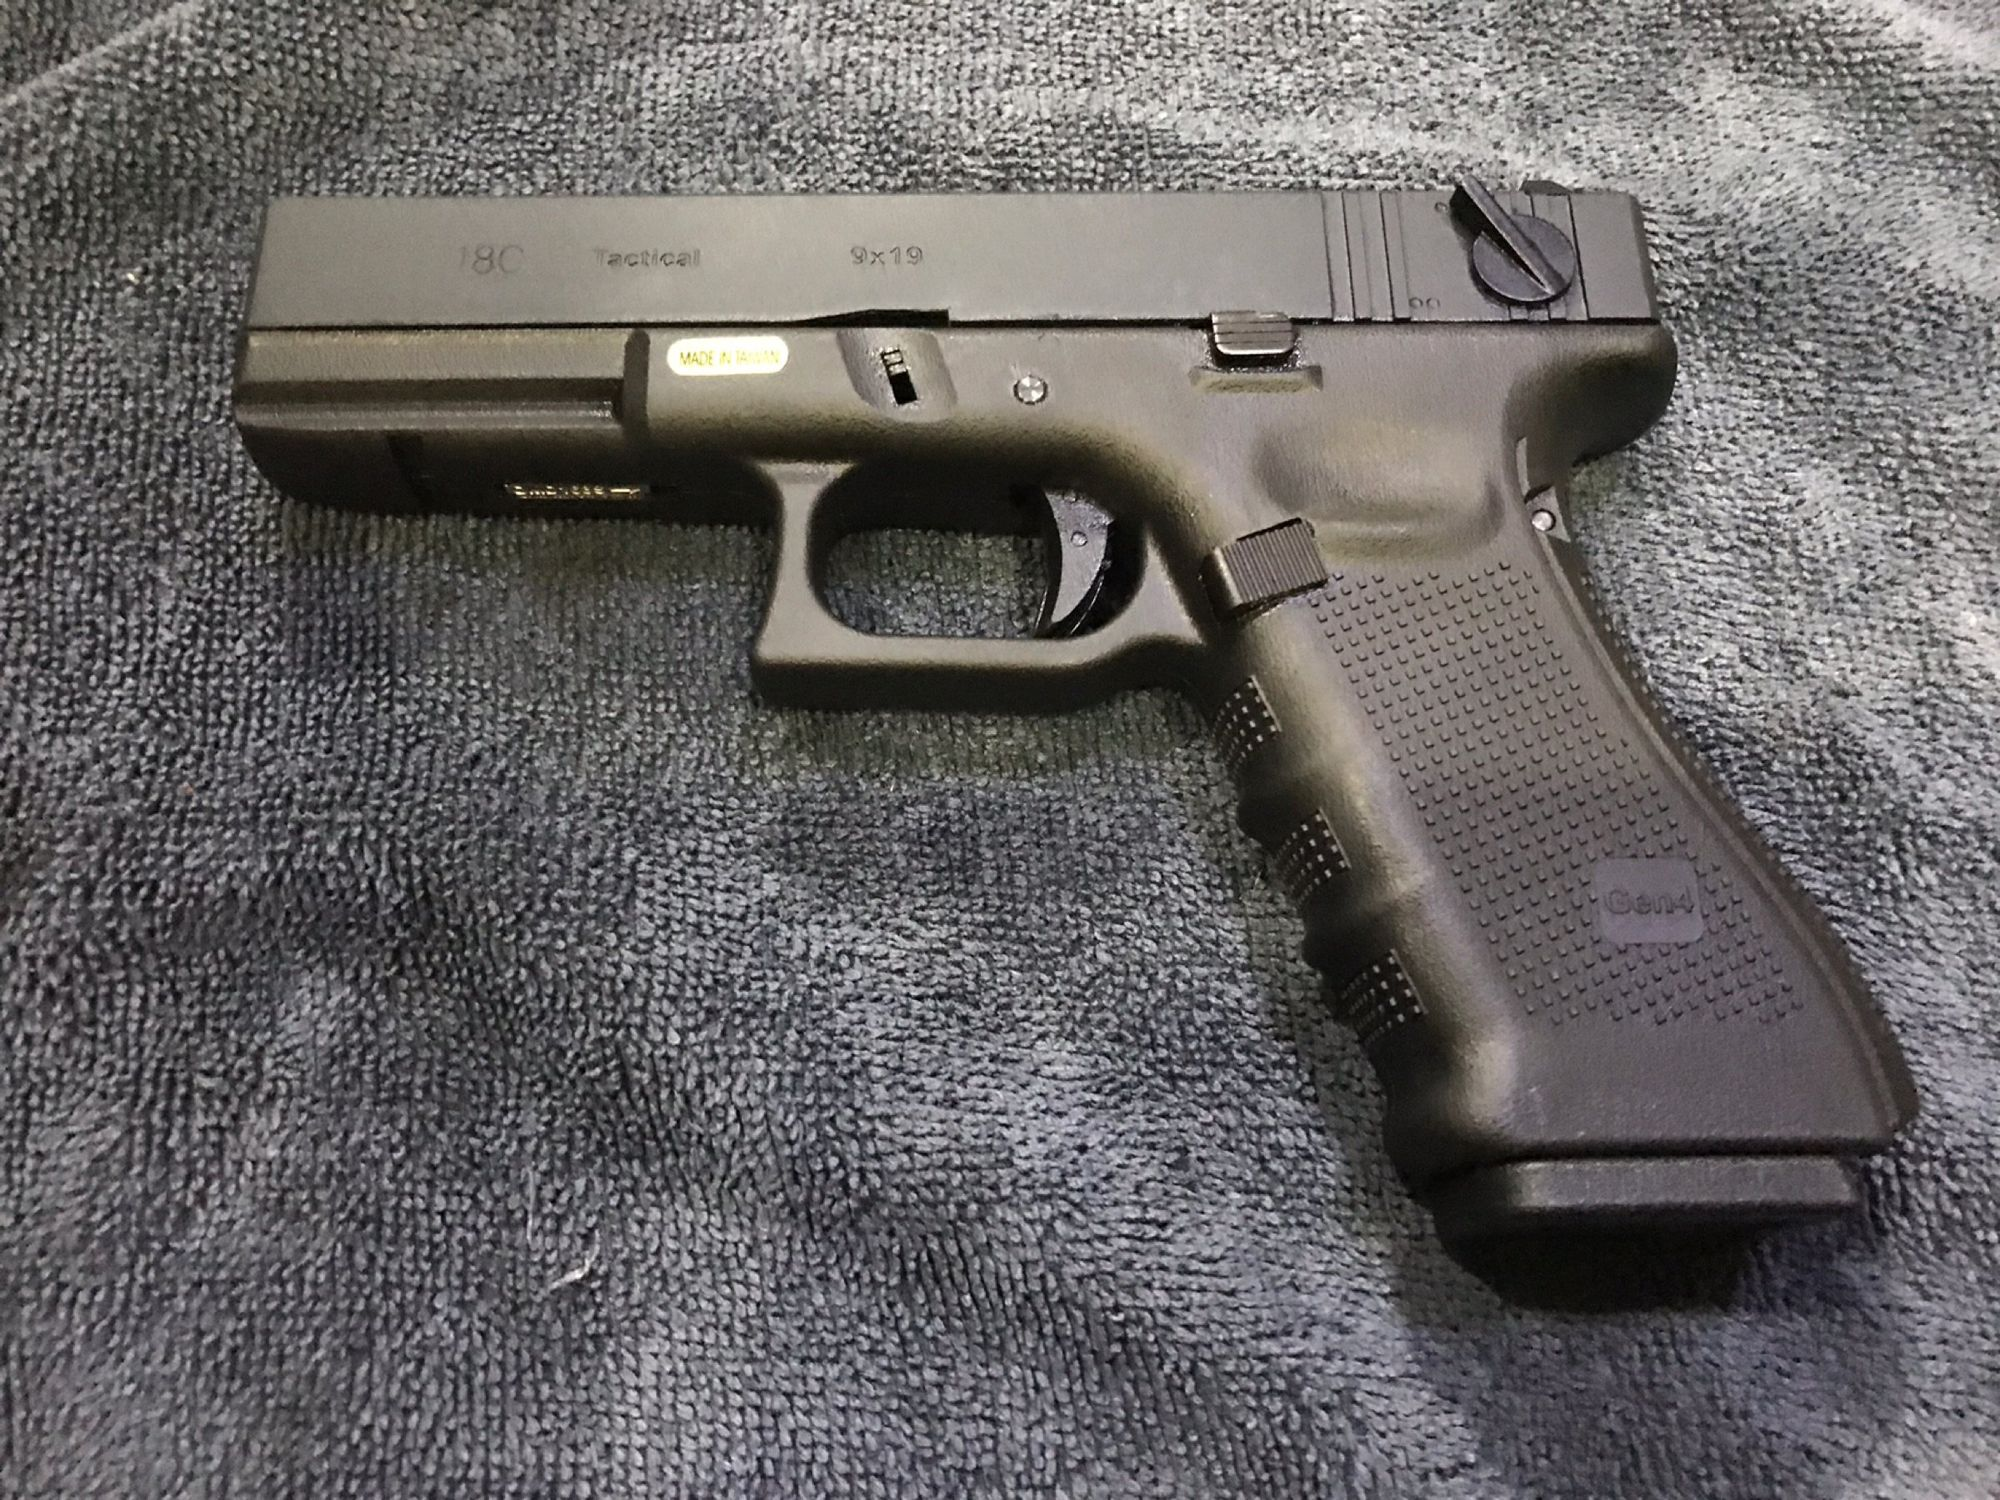gun: (220, 153, 1964, 1286)
